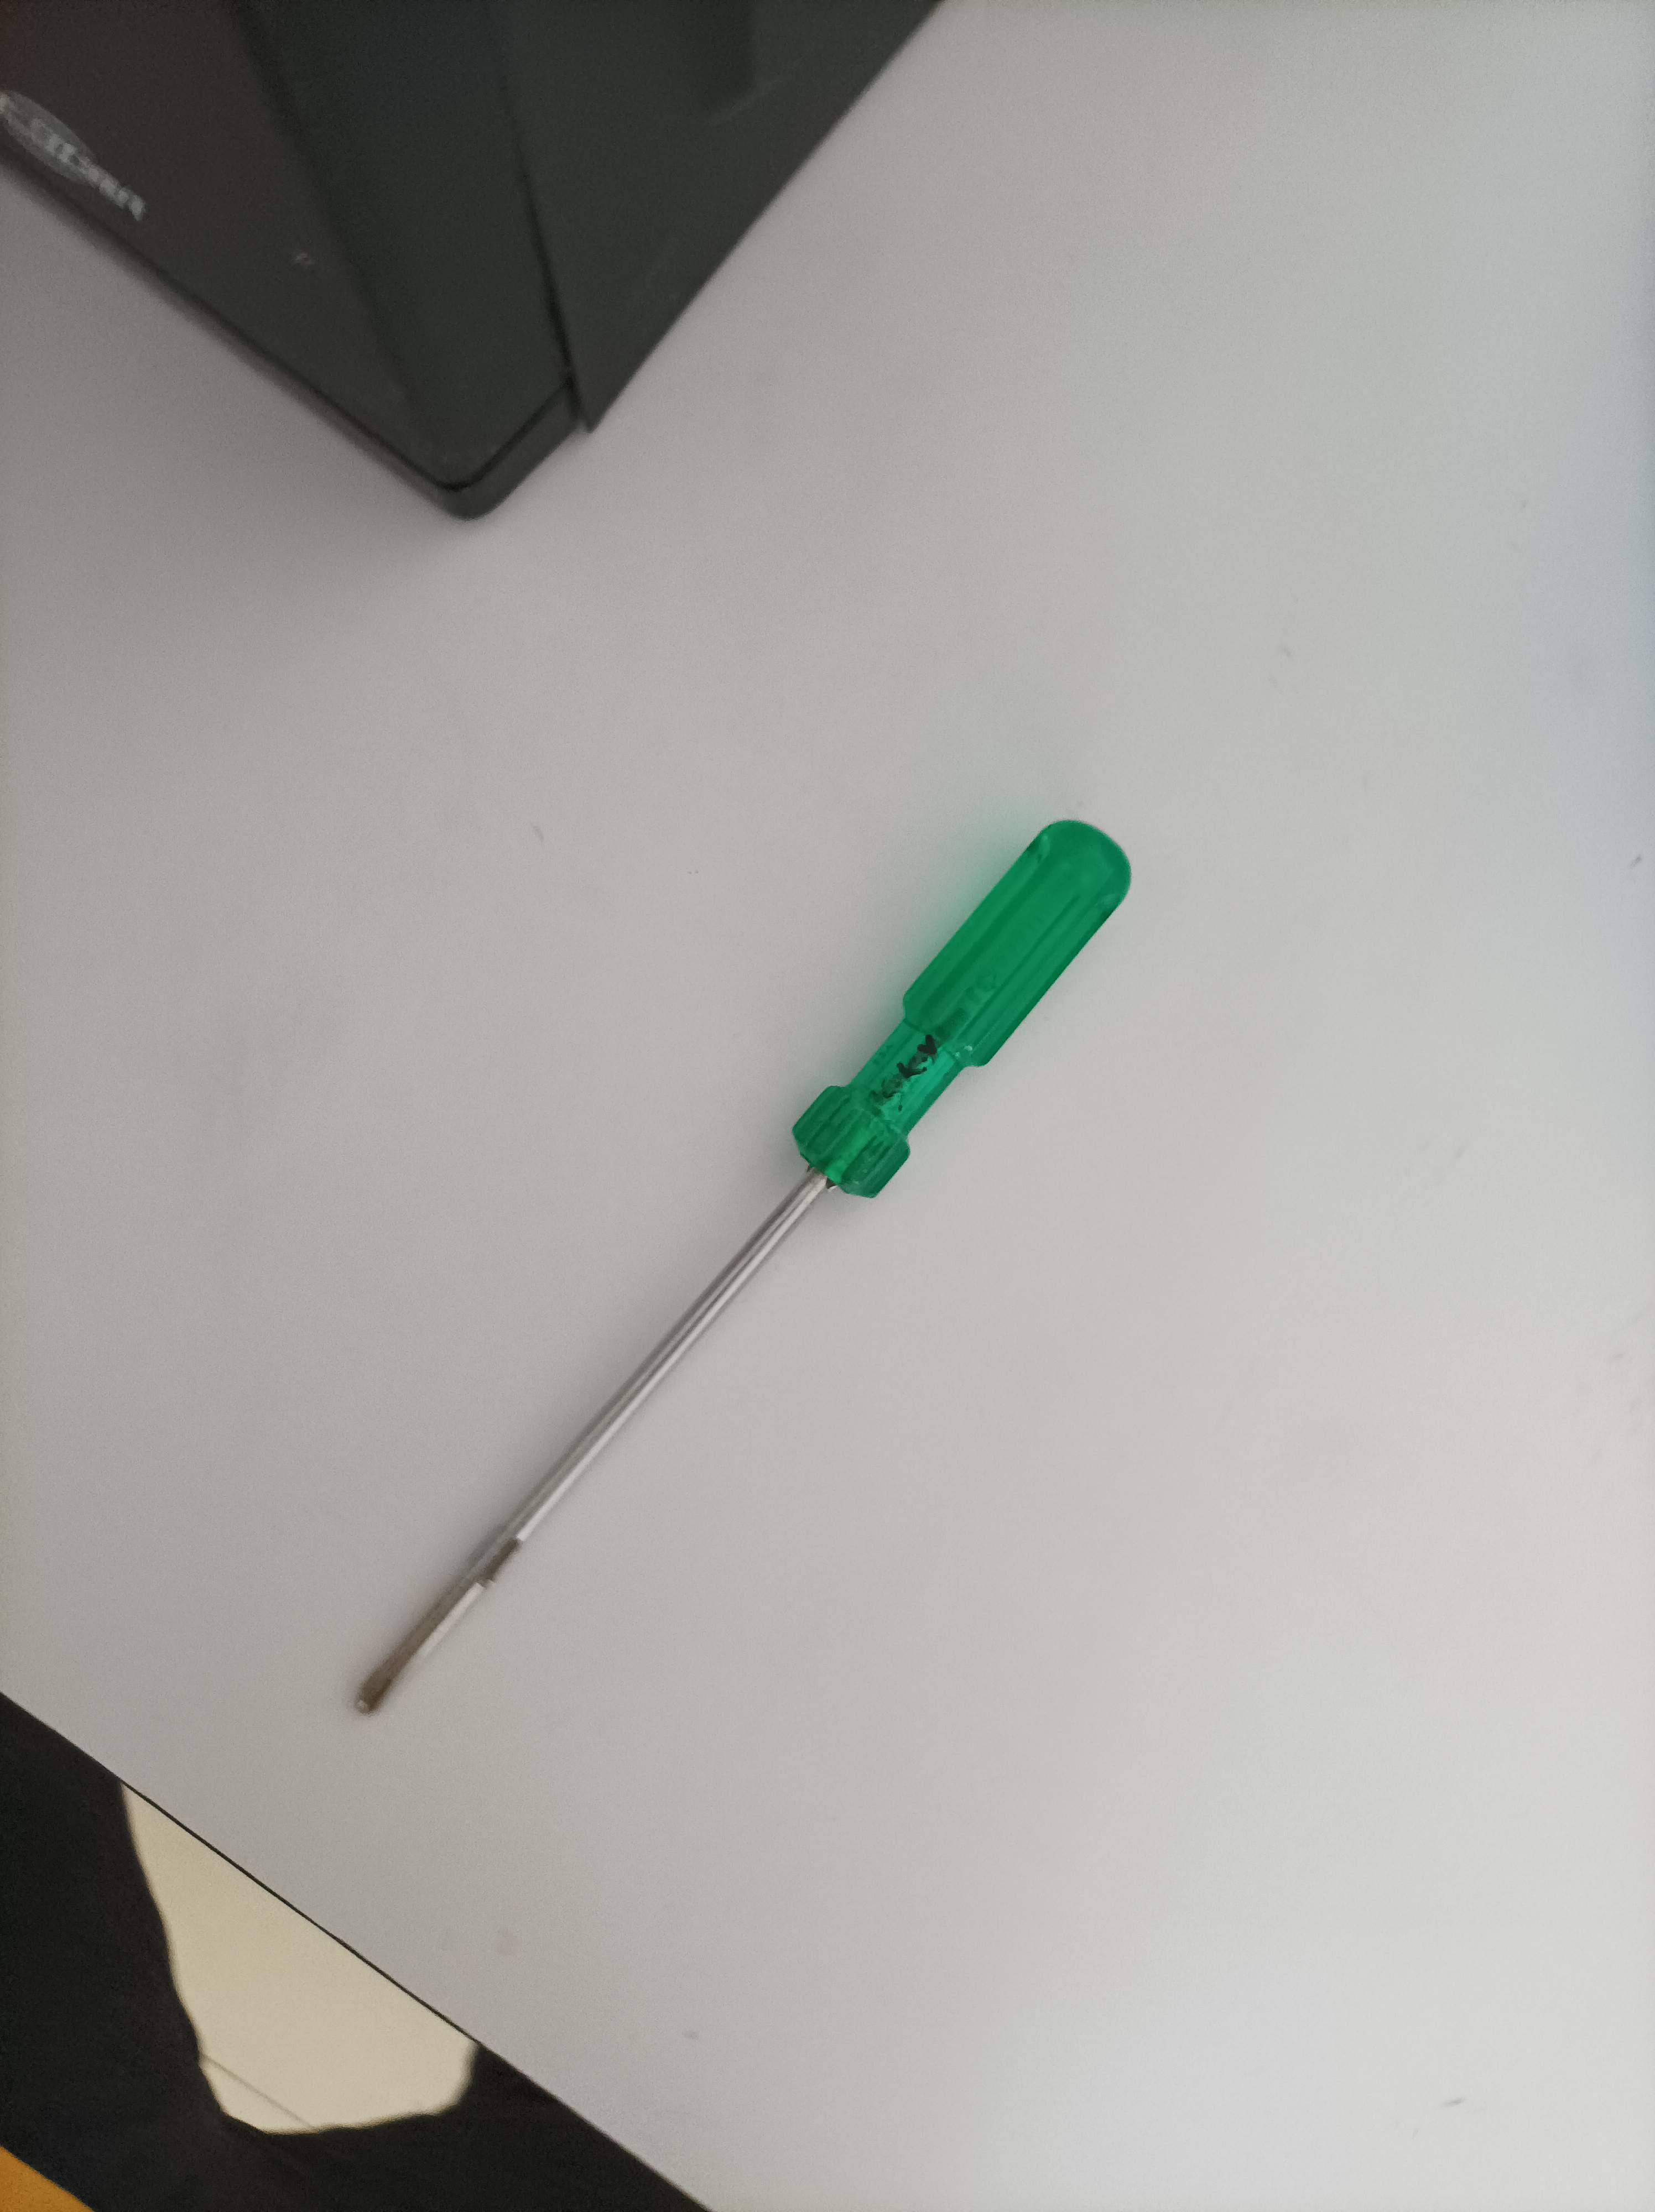screwdriver: (332, 808, 1144, 1738)
